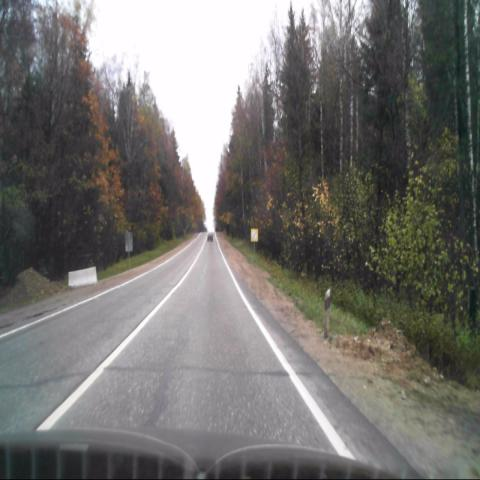3_31: (250, 228, 258, 241)
